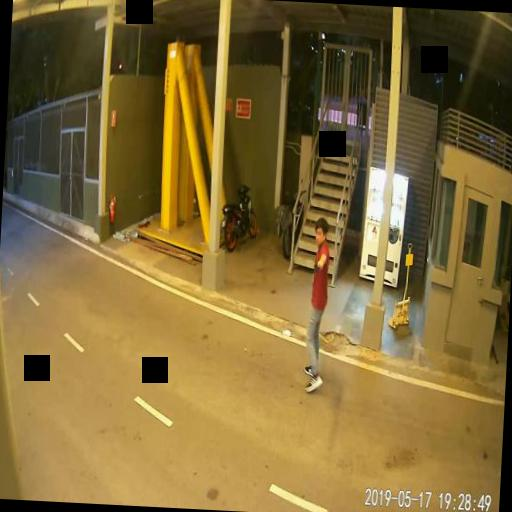Handgun: (312, 257, 324, 271)
